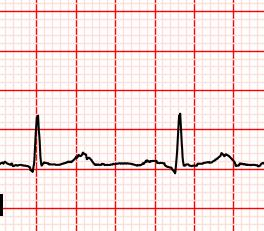LVH: (60, 147, 102, 170), (200, 144, 239, 168)
